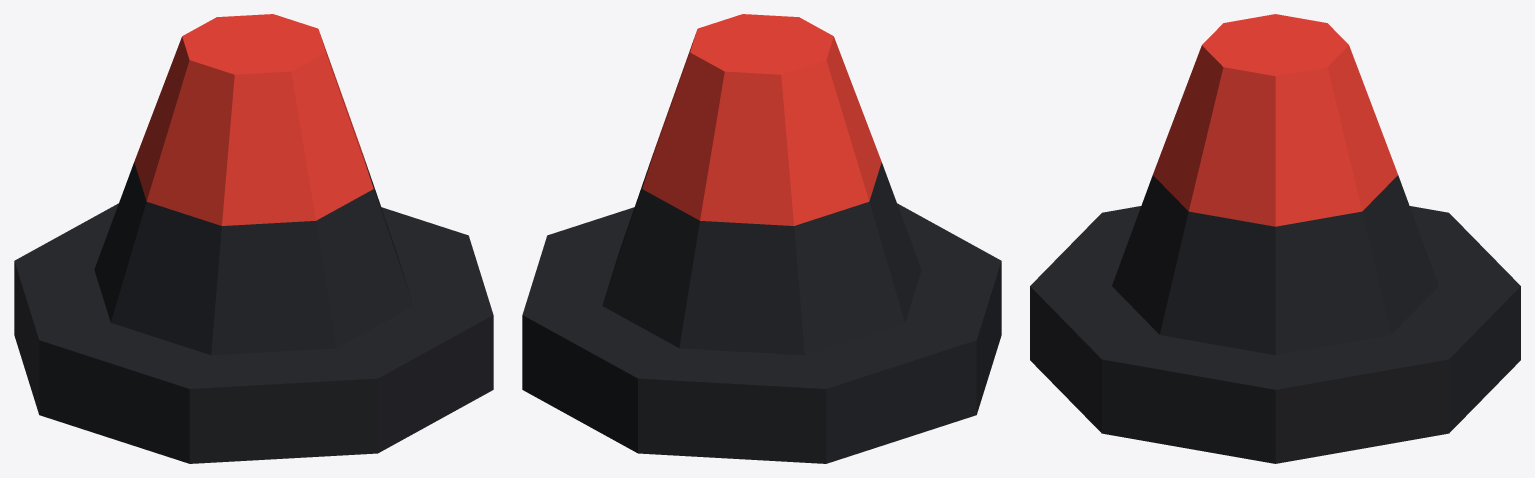
File: station_beacon.glb
3 views of the same model, side by side, from view 1: azimuth 30°, elevation 25°; view 2: azimuth 150°, elevation 25°; view 3: azimuth 270°, elevation 25° (orthographic).
Bounding box in the file's own units: 0.12 × 0.085 × 0.12.
